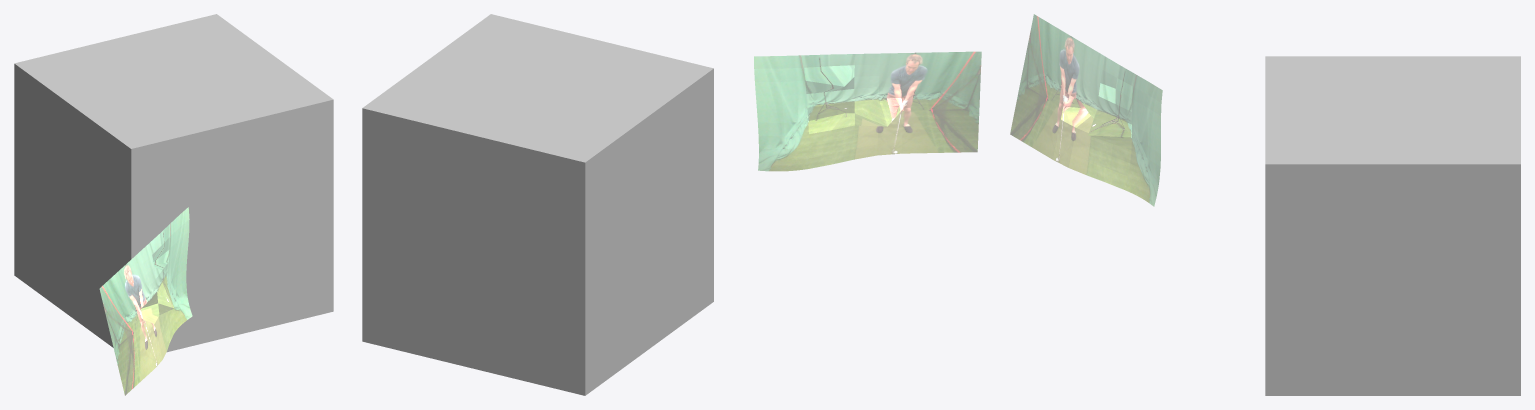
Rendered from golf_scott_cube_plane_animate.glb.
3 renders of one model, left to right at view 1: azimuth 30°, elevation 25°; view 2: azimuth 150°, elevation 25°; view 3: azimuth 270°, elevation 25°, orthographic. The views are drawn at different scales.
Visible parts, largest first — view 1: Cube, frame_00000000; view 2: Cube, frame_00000000; view 3: Cube, frame_00000000.
Part boxes in pixels (box(x1,y1,x2,y2)): Cube: box(14, 14, 333, 352); frame_00000000: box(99, 207, 192, 395); Cube: box(362, 14, 713, 395); frame_00000000: box(754, 51, 981, 171); Cube: box(1265, 56, 1520, 395); frame_00000000: box(1010, 14, 1162, 206).
Bounding box in the file's own units: 3.36 × 2 × 4.
2 materials, 1 textured.
